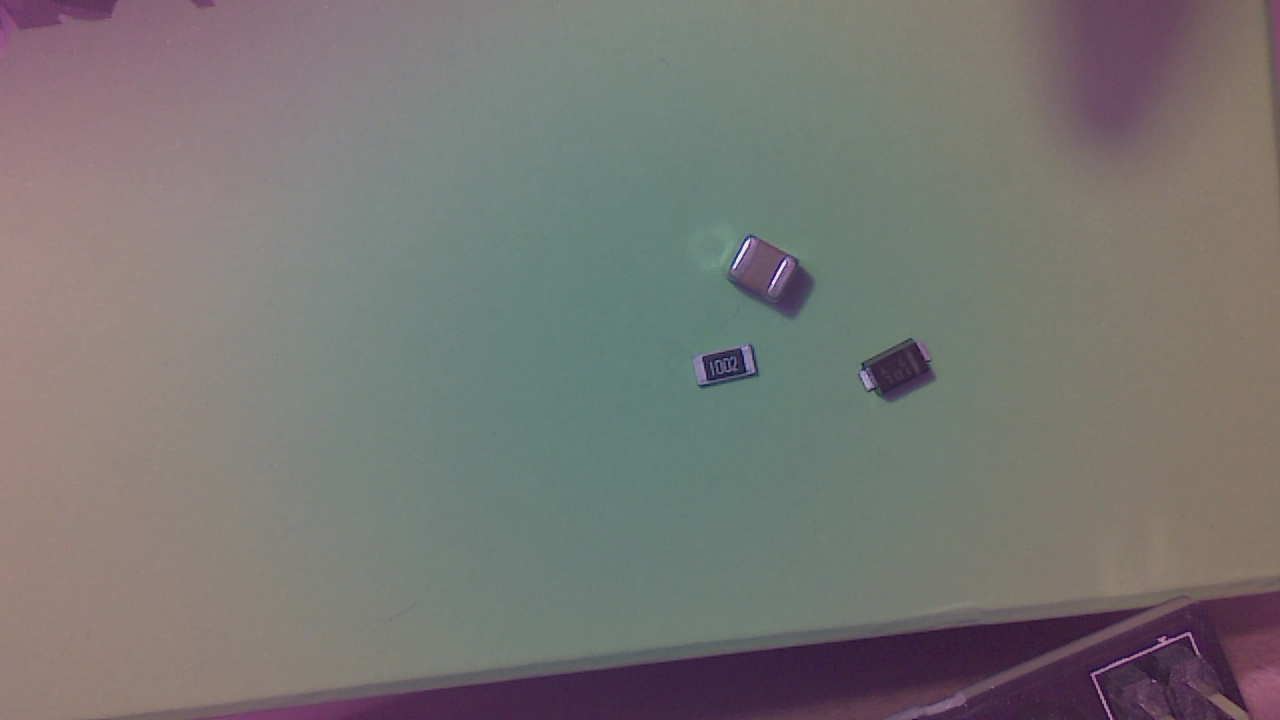Condensator: (730, 243, 805, 310)
Diode: (863, 345, 939, 399)
Resistor: (695, 349, 763, 394)
